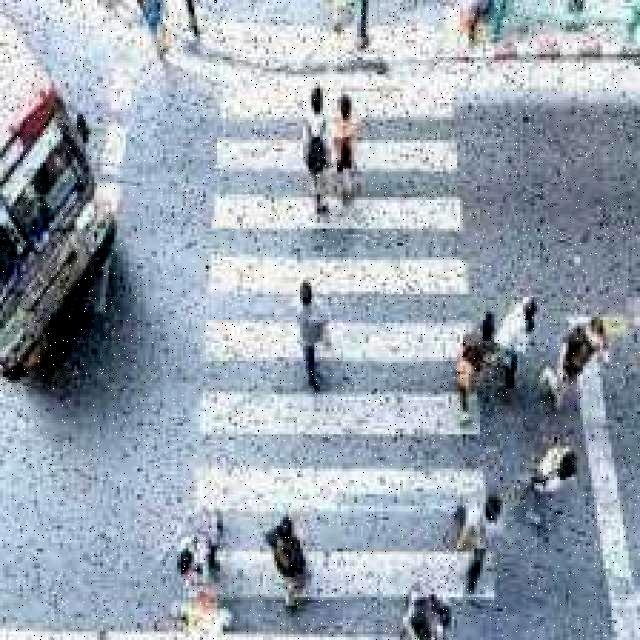crosswalk: (21, 17, 600, 632)
